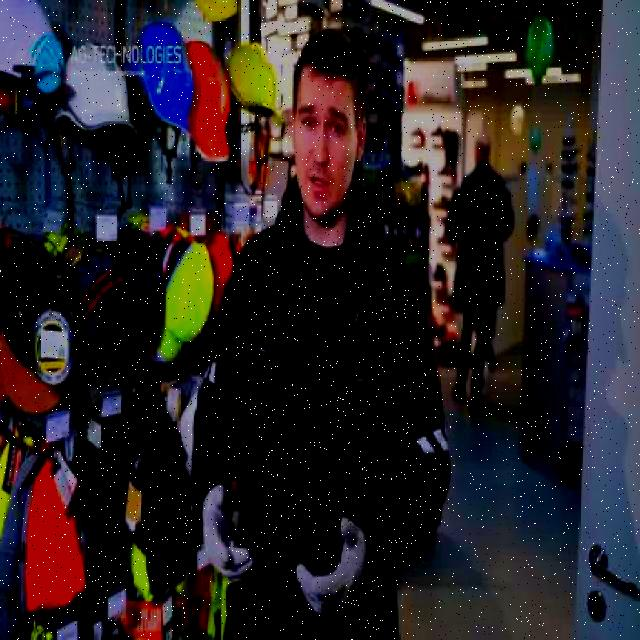Gloves: (296, 512, 375, 618), (200, 482, 254, 586)
Helmet: (132, 26, 200, 146), (55, 49, 140, 143), (0, 3, 69, 94), (186, 42, 232, 166), (230, 44, 276, 118)
